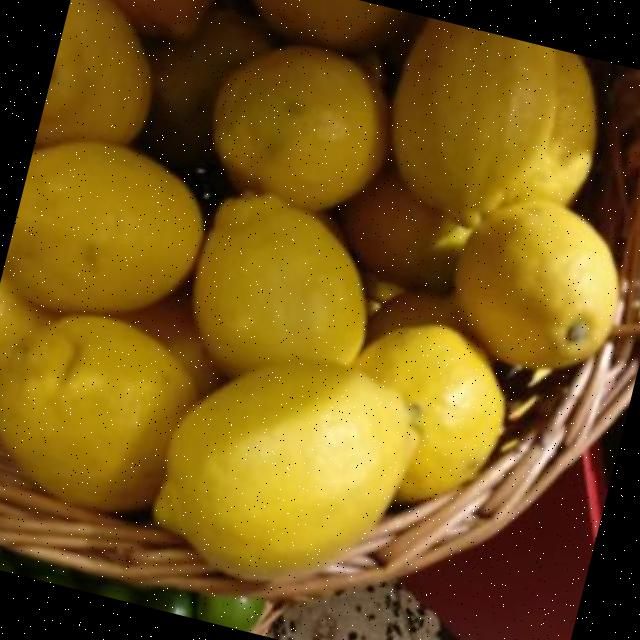lemon: (155, 361, 412, 579), (392, 18, 596, 226), (0, 316, 195, 511), (3, 142, 203, 311), (193, 194, 366, 375), (213, 47, 386, 210), (455, 201, 618, 367), (355, 324, 503, 501), (356, 325, 503, 501), (141, 9, 271, 168), (36, 0, 151, 147), (340, 172, 471, 293), (114, 287, 223, 398), (252, 0, 407, 50), (0, 277, 52, 374), (113, 0, 212, 37)
